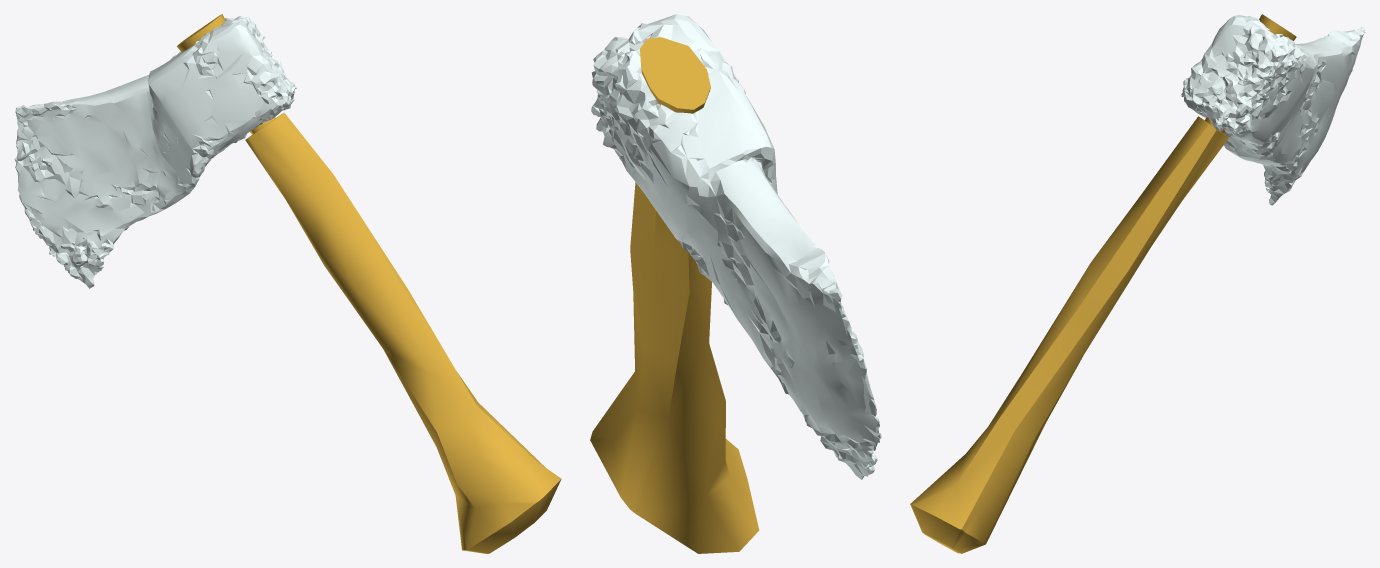
File: axe-iron-25.glb
3 renders of one model, left to right at view 1: azimuth 30°, elevation 25°; view 2: azimuth 150°, elevation 25°; view 3: azimuth 270°, elevation 25°, orthographic. The views are drawn at different scales.
Visible parts, largest first — view 1: iron-axe-head, iron-axe; view 2: iron-axe-head, iron-axe; view 3: iron-axe, iron-axe-head.
Part boxes in pixels (box(x1,y1,x2,y2)): iron-axe-head: box(14, 16, 296, 288); iron-axe: box(177, 14, 561, 553); iron-axe-head: box(591, 14, 881, 479); iron-axe: box(590, 37, 759, 553); iron-axe: box(910, 14, 1296, 553); iron-axe-head: box(1181, 15, 1365, 205).
Size of the model in its own units: 0.7038 by 0.8642 by 0.7484.
